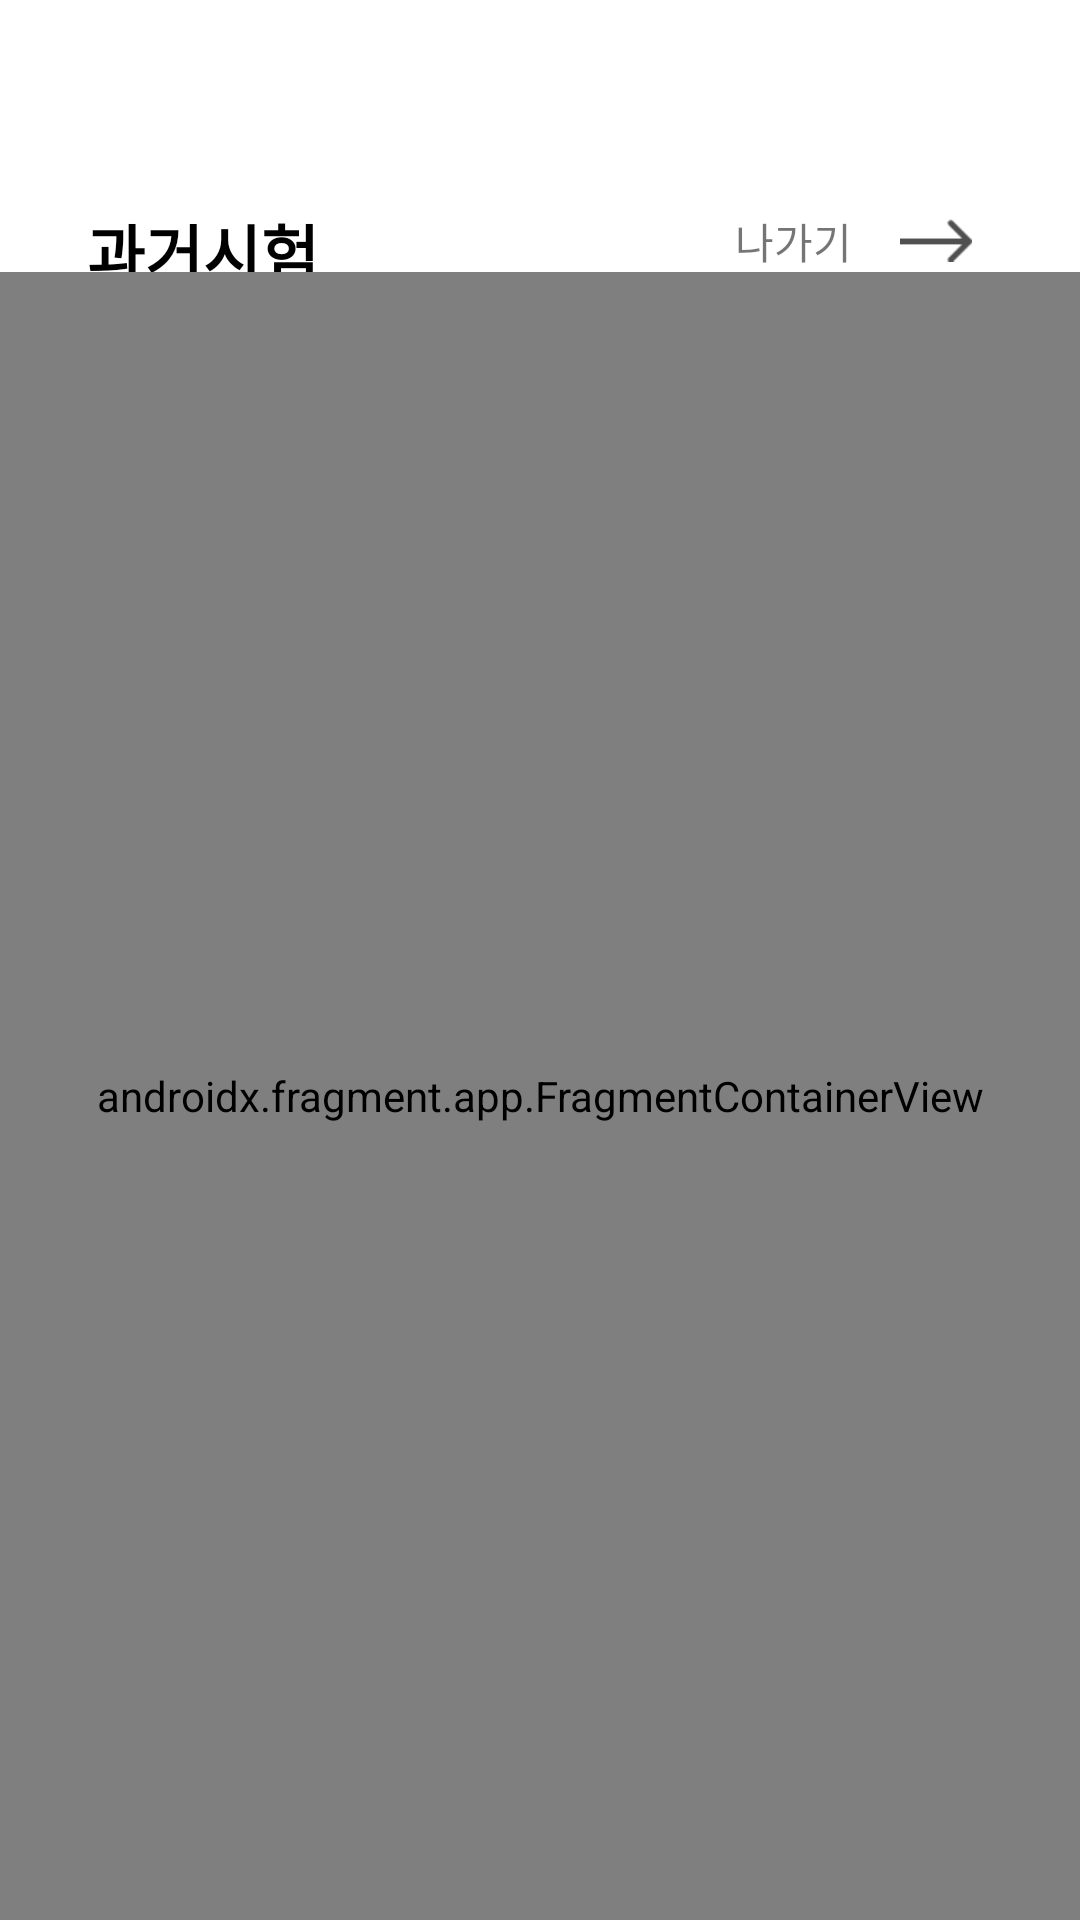

Icons on this 1080×1920 Android screen, each with the point to tap as (x,y):
right arrow: (936,240)
